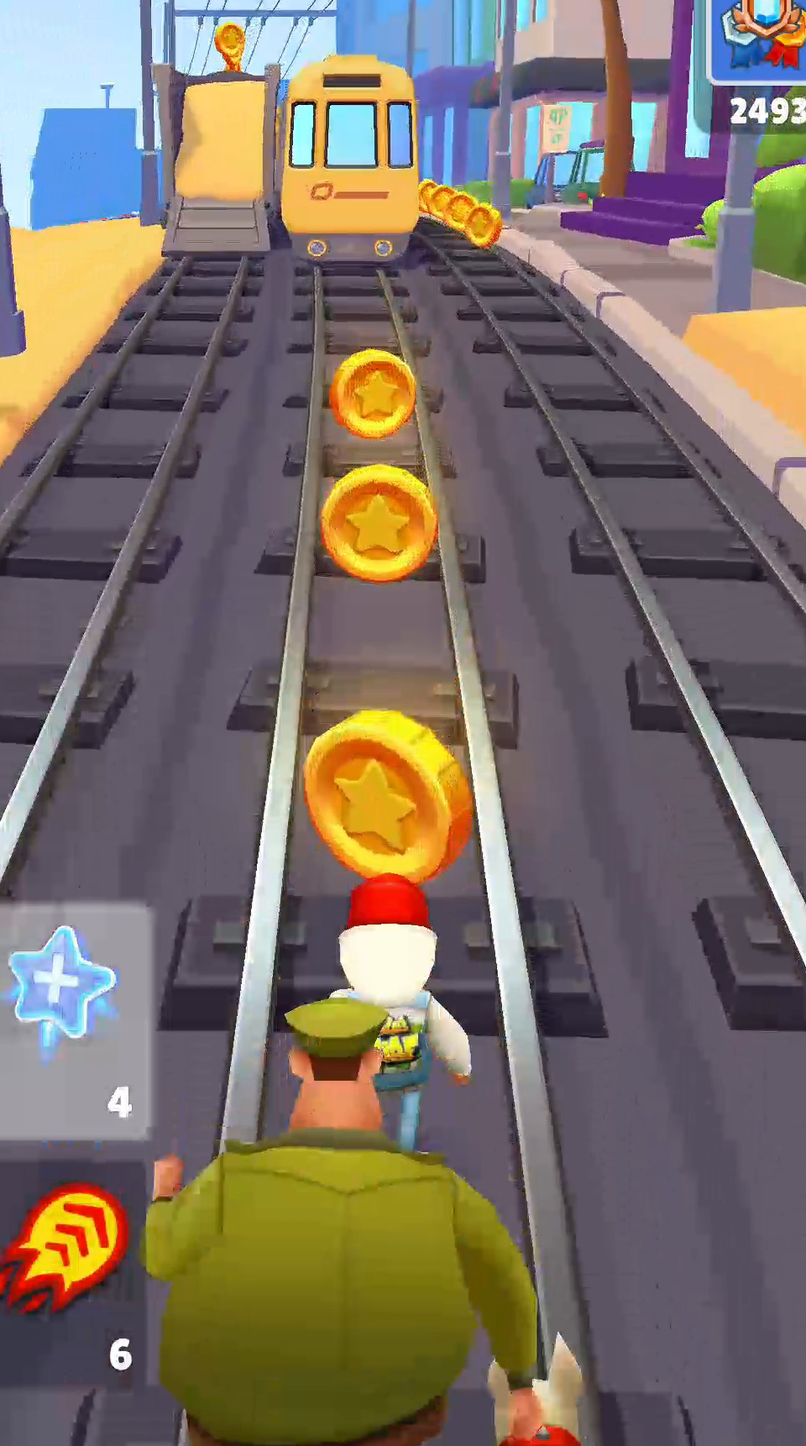climber: (0, 252, 225, 447), (164, 71, 274, 259)
train: (280, 55, 420, 267)
